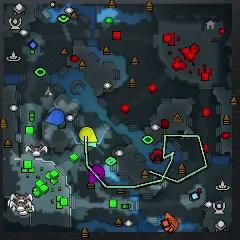p1: (45, 109, 67, 126)
p2: (83, 141, 96, 147)
p3: (88, 164, 105, 184)
p4: (79, 126, 98, 142)
p5: (163, 212, 180, 232)
